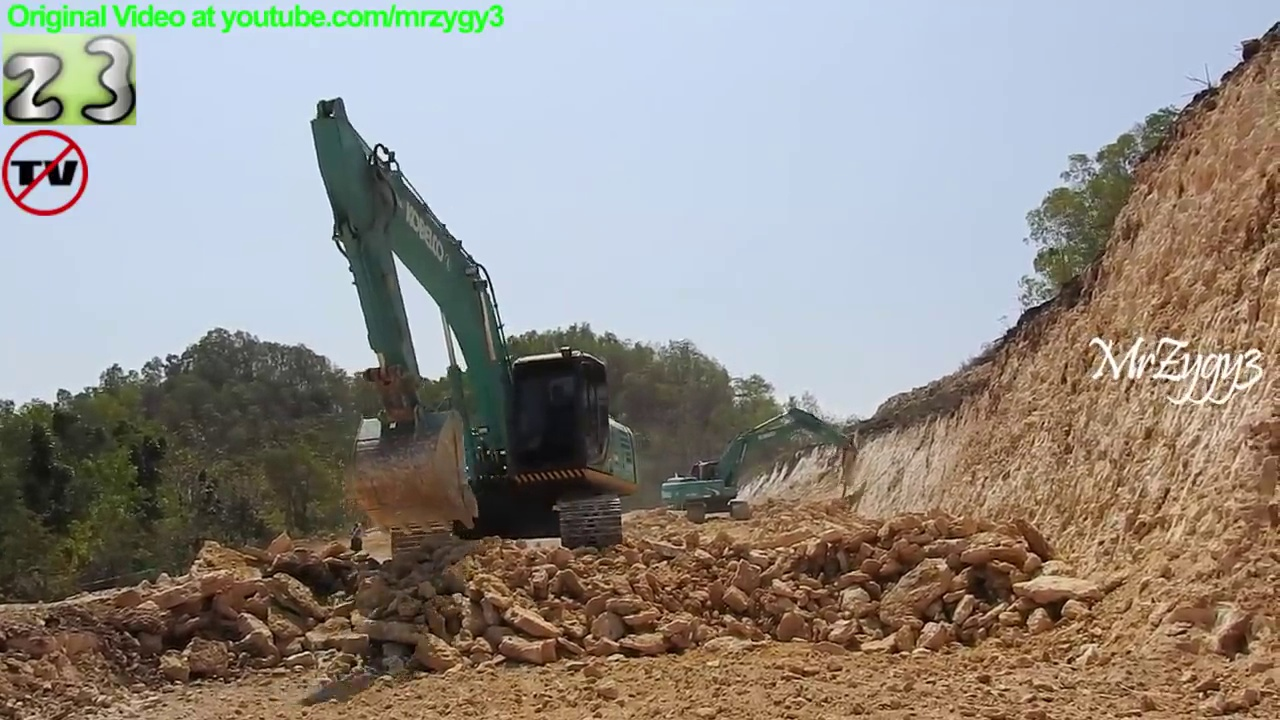excavator: (303, 92, 644, 575)
excavator breaker: (657, 400, 862, 527)
